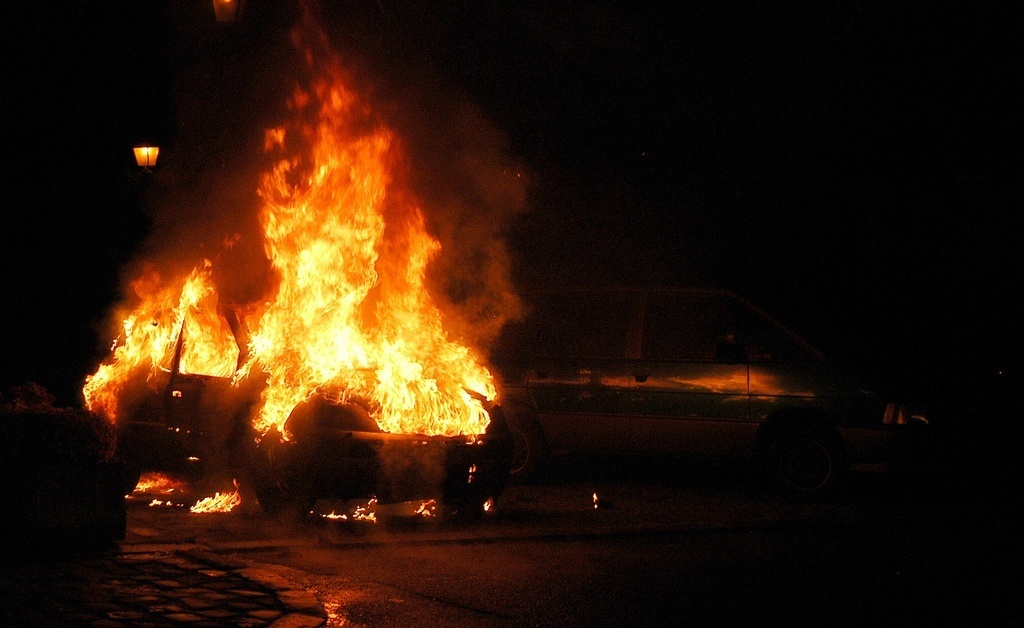fire: (83, 53, 506, 501)
